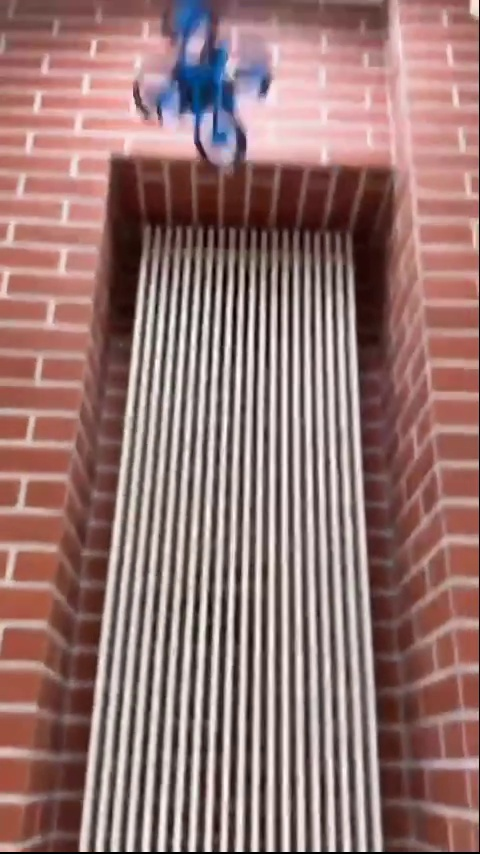drone: (132, 9, 281, 171)
